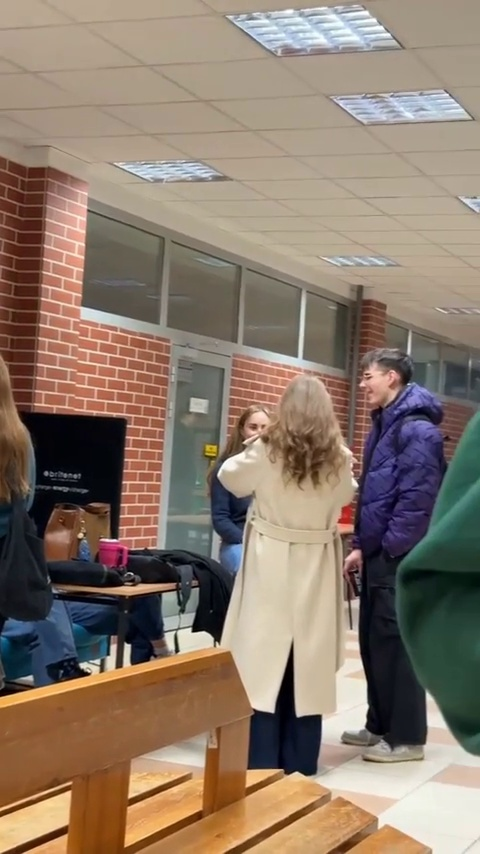no vest: (223, 361, 347, 729), (354, 337, 444, 728), (0, 351, 53, 665)
